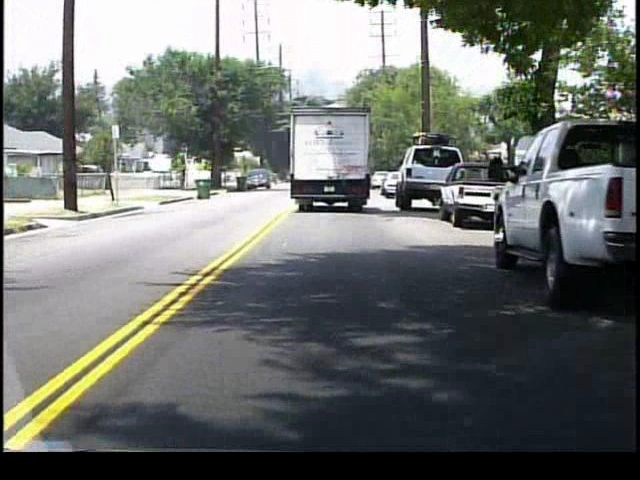person: (180, 164, 190, 189)
